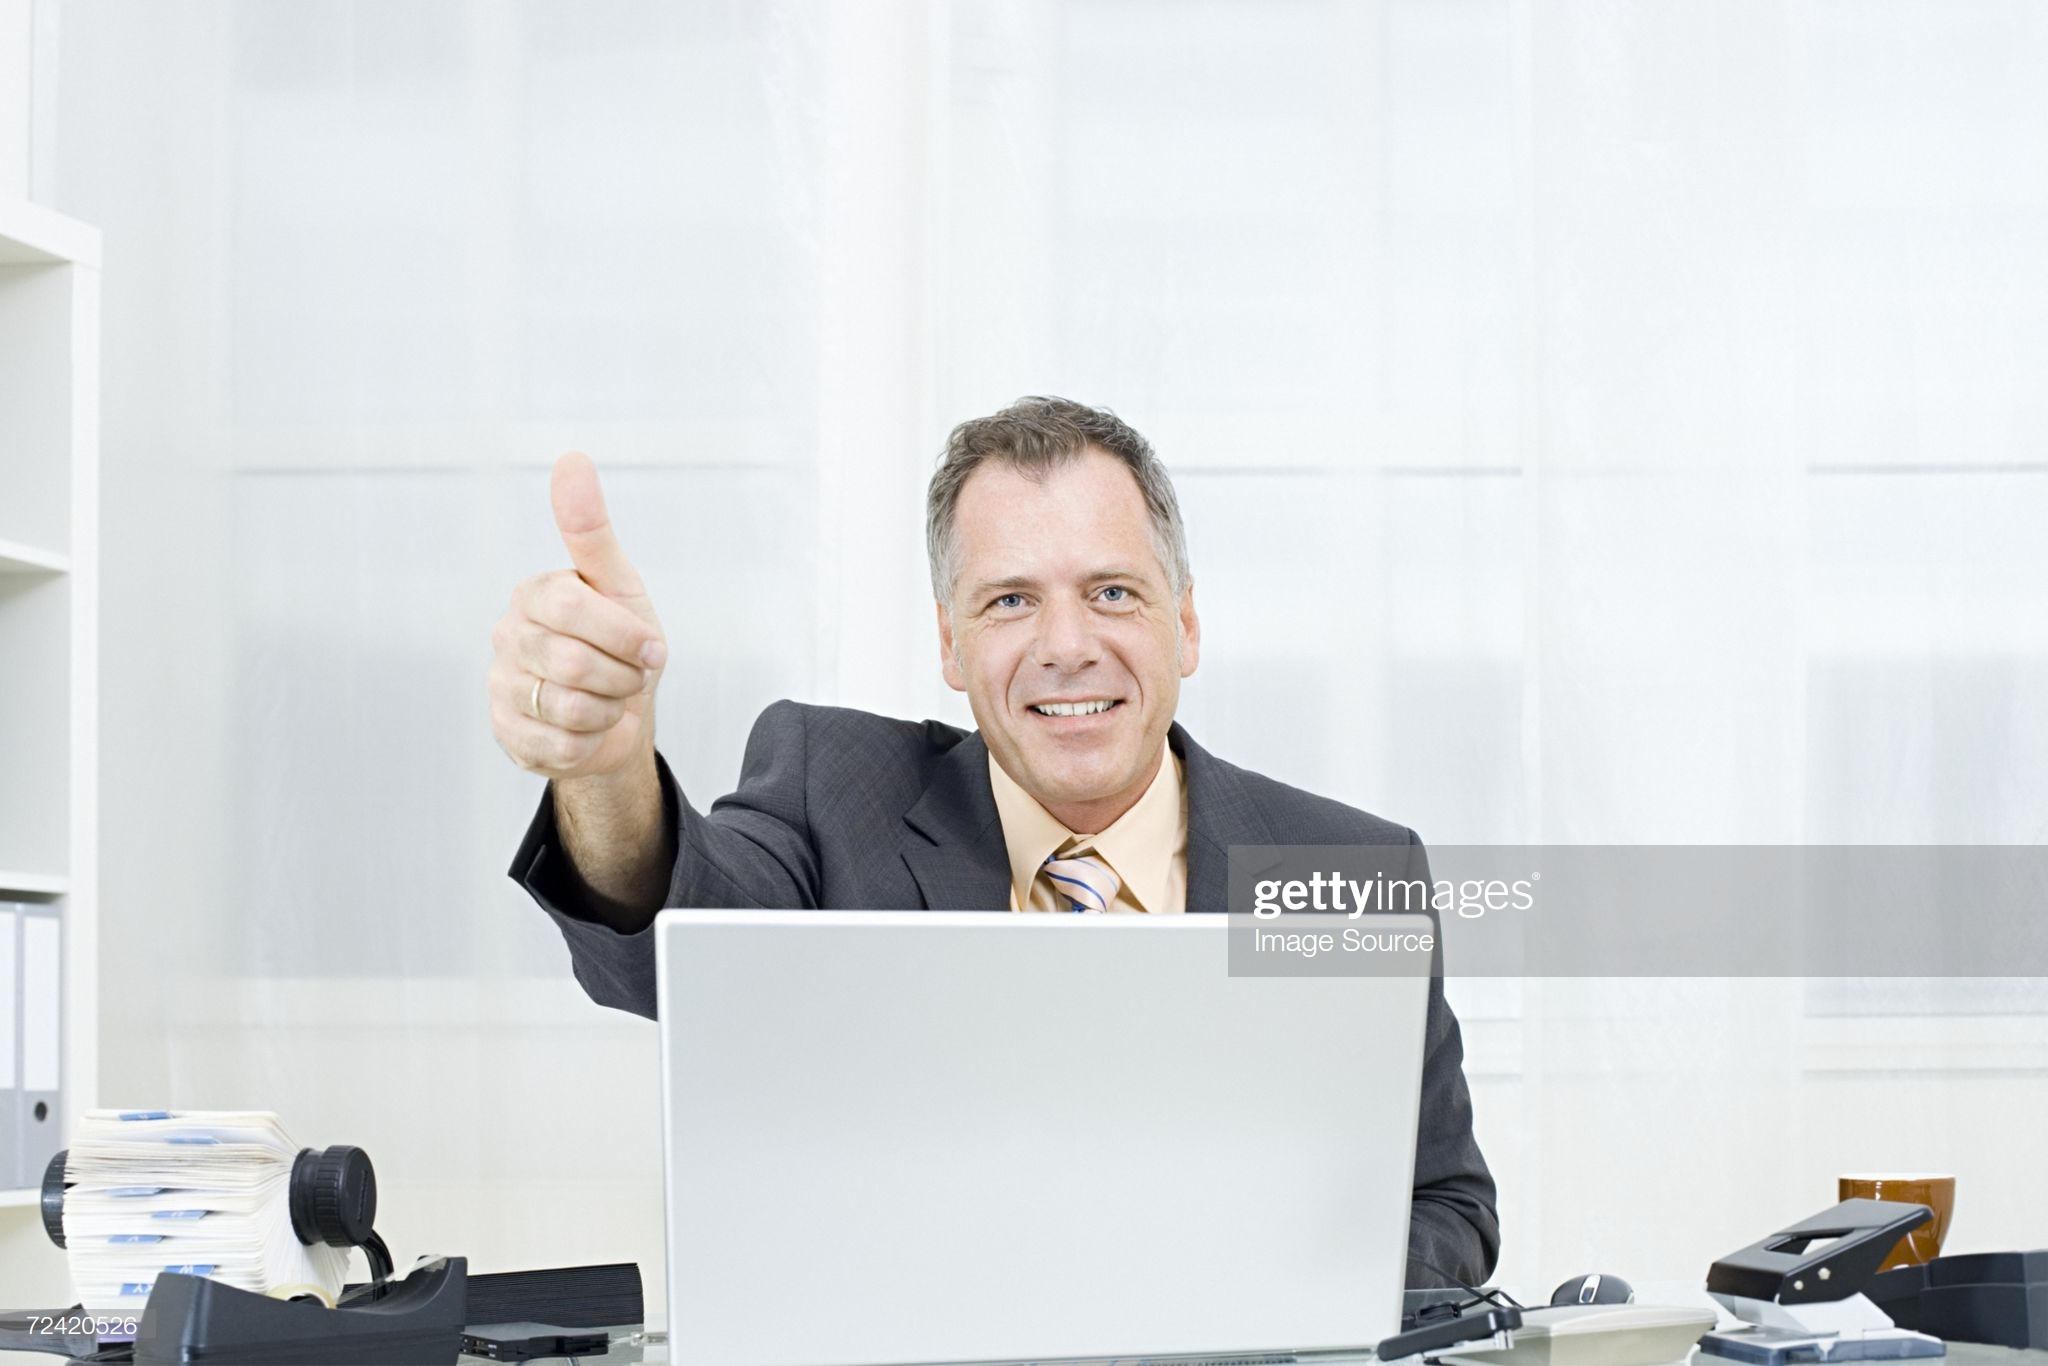thumbsup: (486, 450, 667, 774)
